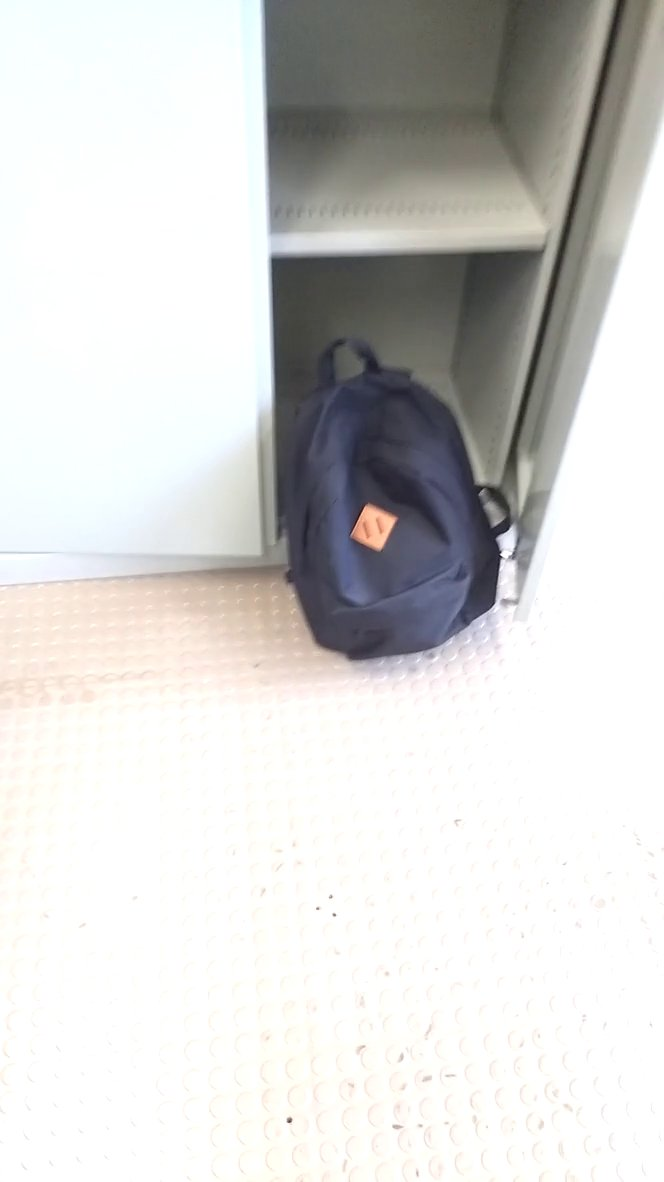bag: (275, 326, 514, 667)
